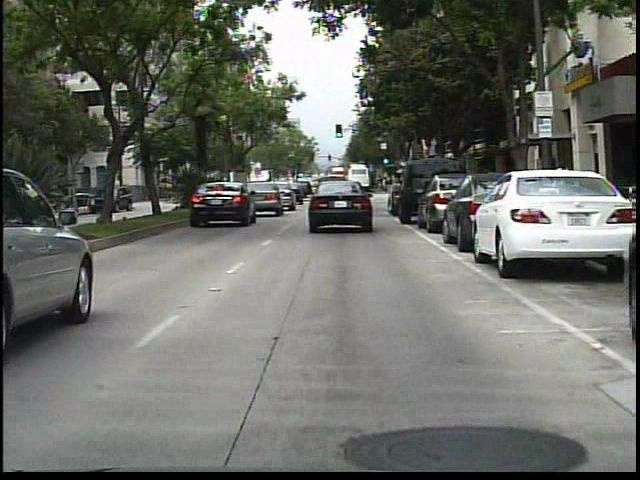person: (550, 157, 574, 215)
